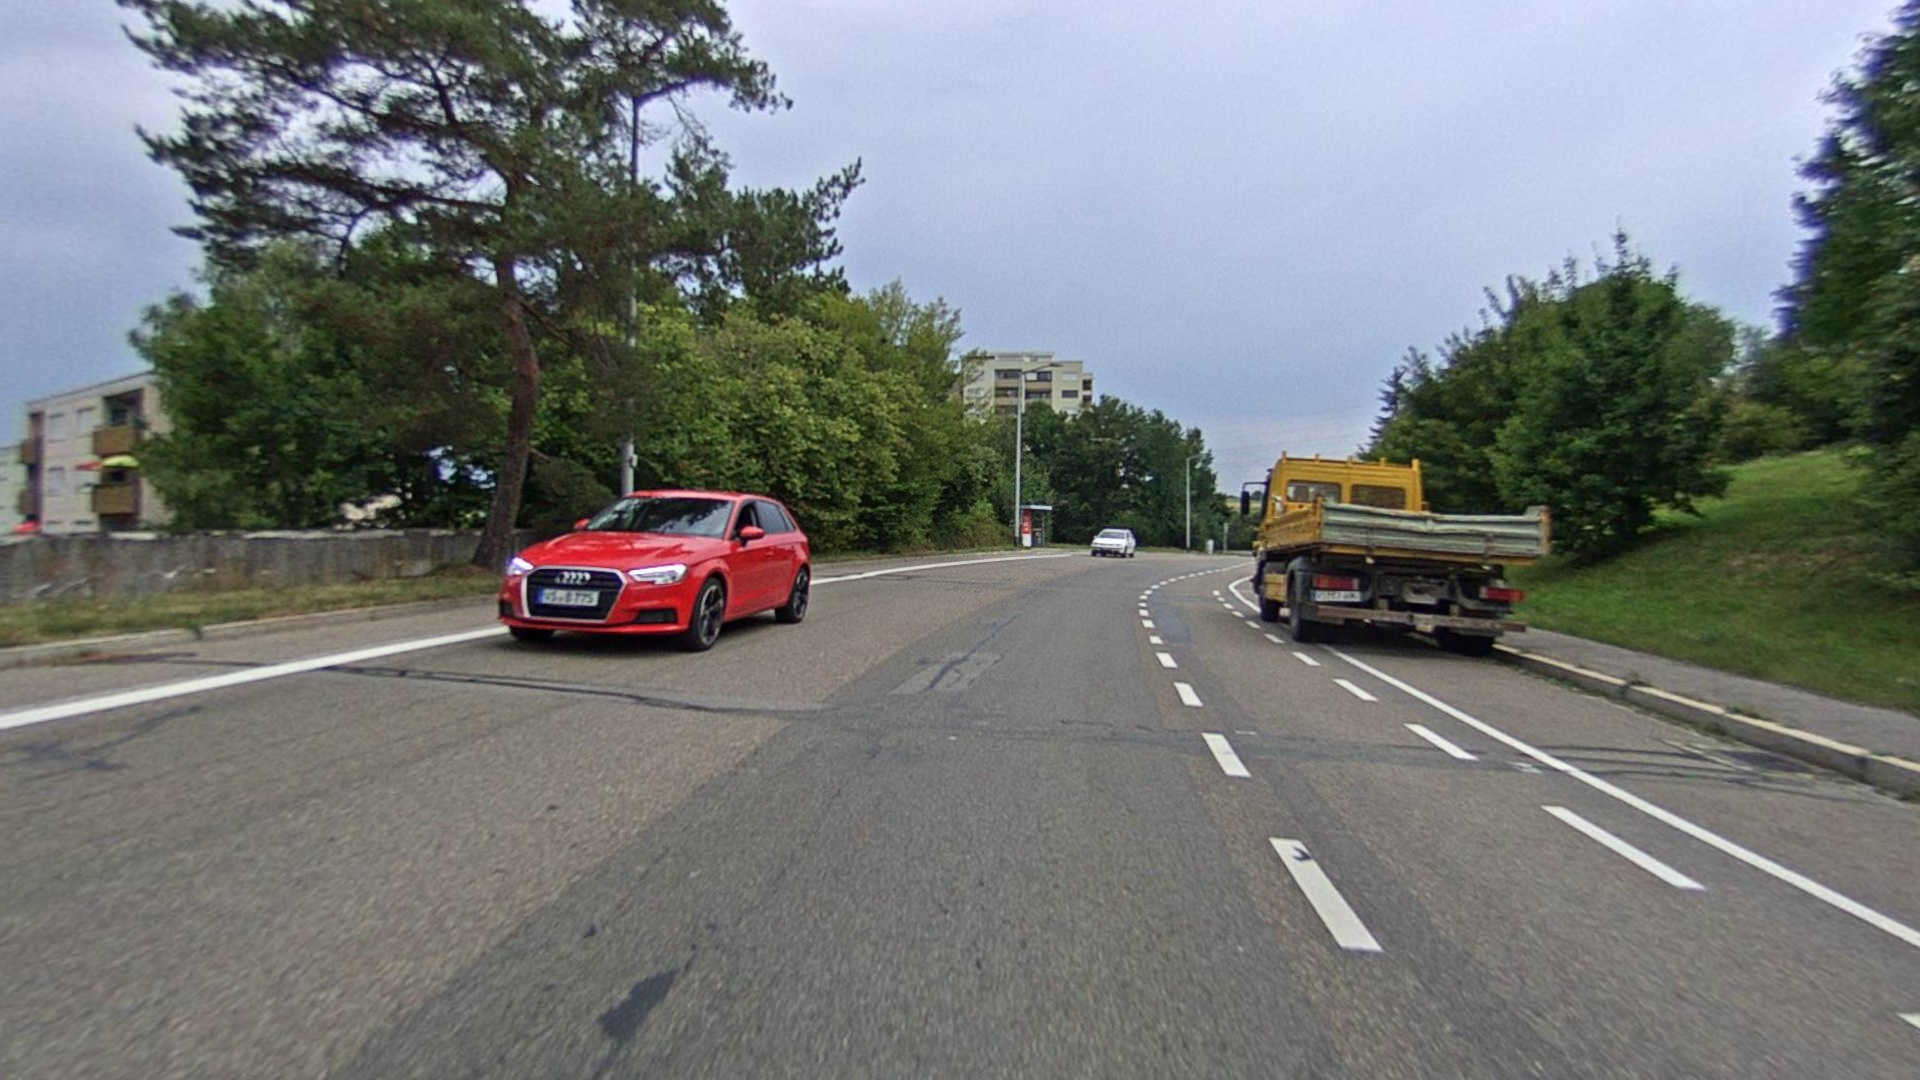car: (492, 487, 815, 654)
truck: (1250, 450, 1553, 663)
